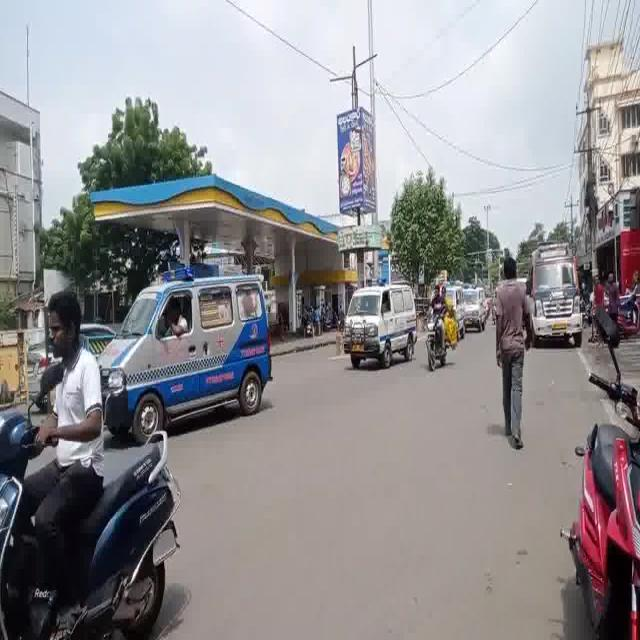ambulance: (98, 264, 268, 439), (528, 242, 584, 340)
